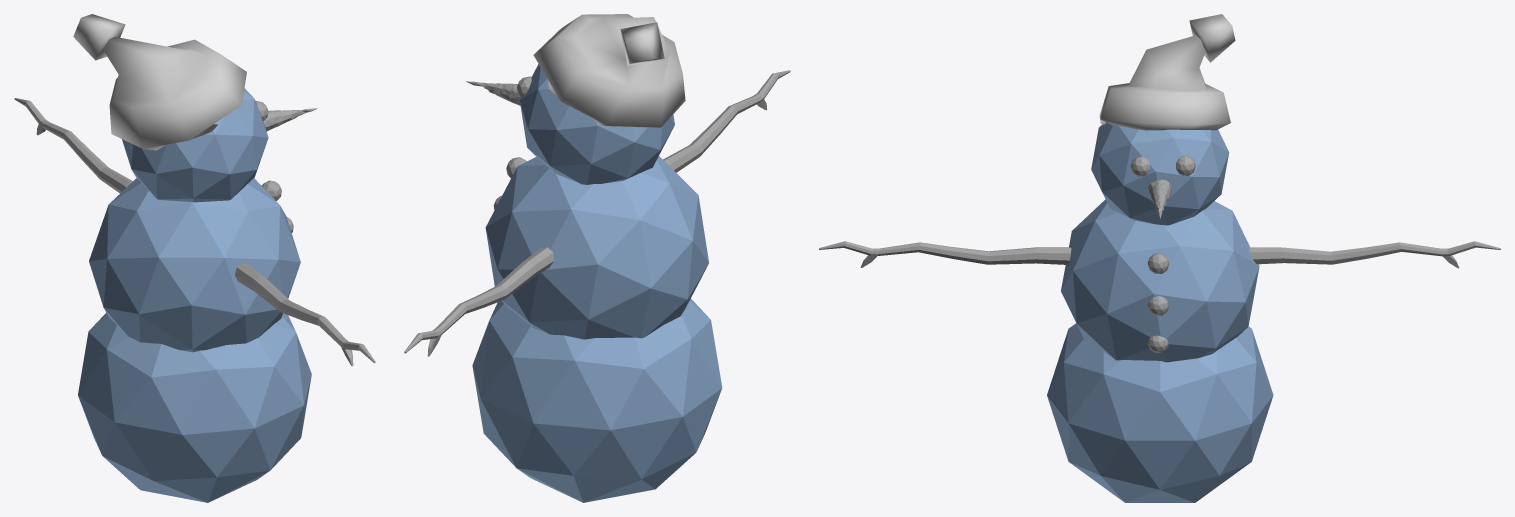
Rendered from Snowman-Generic3.obj.
The picture shows the model from 3 angles, left to right: view 1: azimuth 30°, elevation 25°; view 2: azimuth 150°, elevation 25°; view 3: azimuth 270°, elevation 25°; orthographic projection. The views are drawn at different scales.
Visible parts, largest first — view 1: body_Icosphere.001, hat_Cube_Cube.002, armR_Cylinder.000, armL_Cylinder.004, nose_Circle; view 2: body_Icosphere.001, hat_Cube_Cube.002, armL_Cylinder.004, armR_Cylinder.000, nose_Circle; view 3: body_Icosphere.001, hat_Cube_Cube.002, armR_Cylinder.000, armL_Cylinder.004, chestbuttons_Icosphere.004.
Boxes of the visible parts, x1,y1,x2,y2 form: body_Icosphere.001: (78,88,311,502); hat_Cube_Cube.002: (73,14,246,150); armR_Cylinder.000: (235,263,375,366); armL_Cylinder.004: (14,98,132,193); nose_Circle: (263,108,317,131); body_Icosphere.001: (472,64,722,502); hat_Cube_Cube.002: (533,14,685,127); armL_Cylinder.004: (404,247,554,356); armR_Cylinder.000: (663,70,790,172); nose_Circle: (466,81,520,105); body_Icosphere.001: (1047,122,1273,502); hat_Cube_Cube.002: (1099,14,1235,130); armR_Cylinder.000: (819,241,1071,267); armL_Cylinder.004: (1249,241,1500,268); chestbuttons_Icosphere.004: (1147,253,1169,352).
Size of the model in its own units: 2.89 by 5.88 by 8.13.
